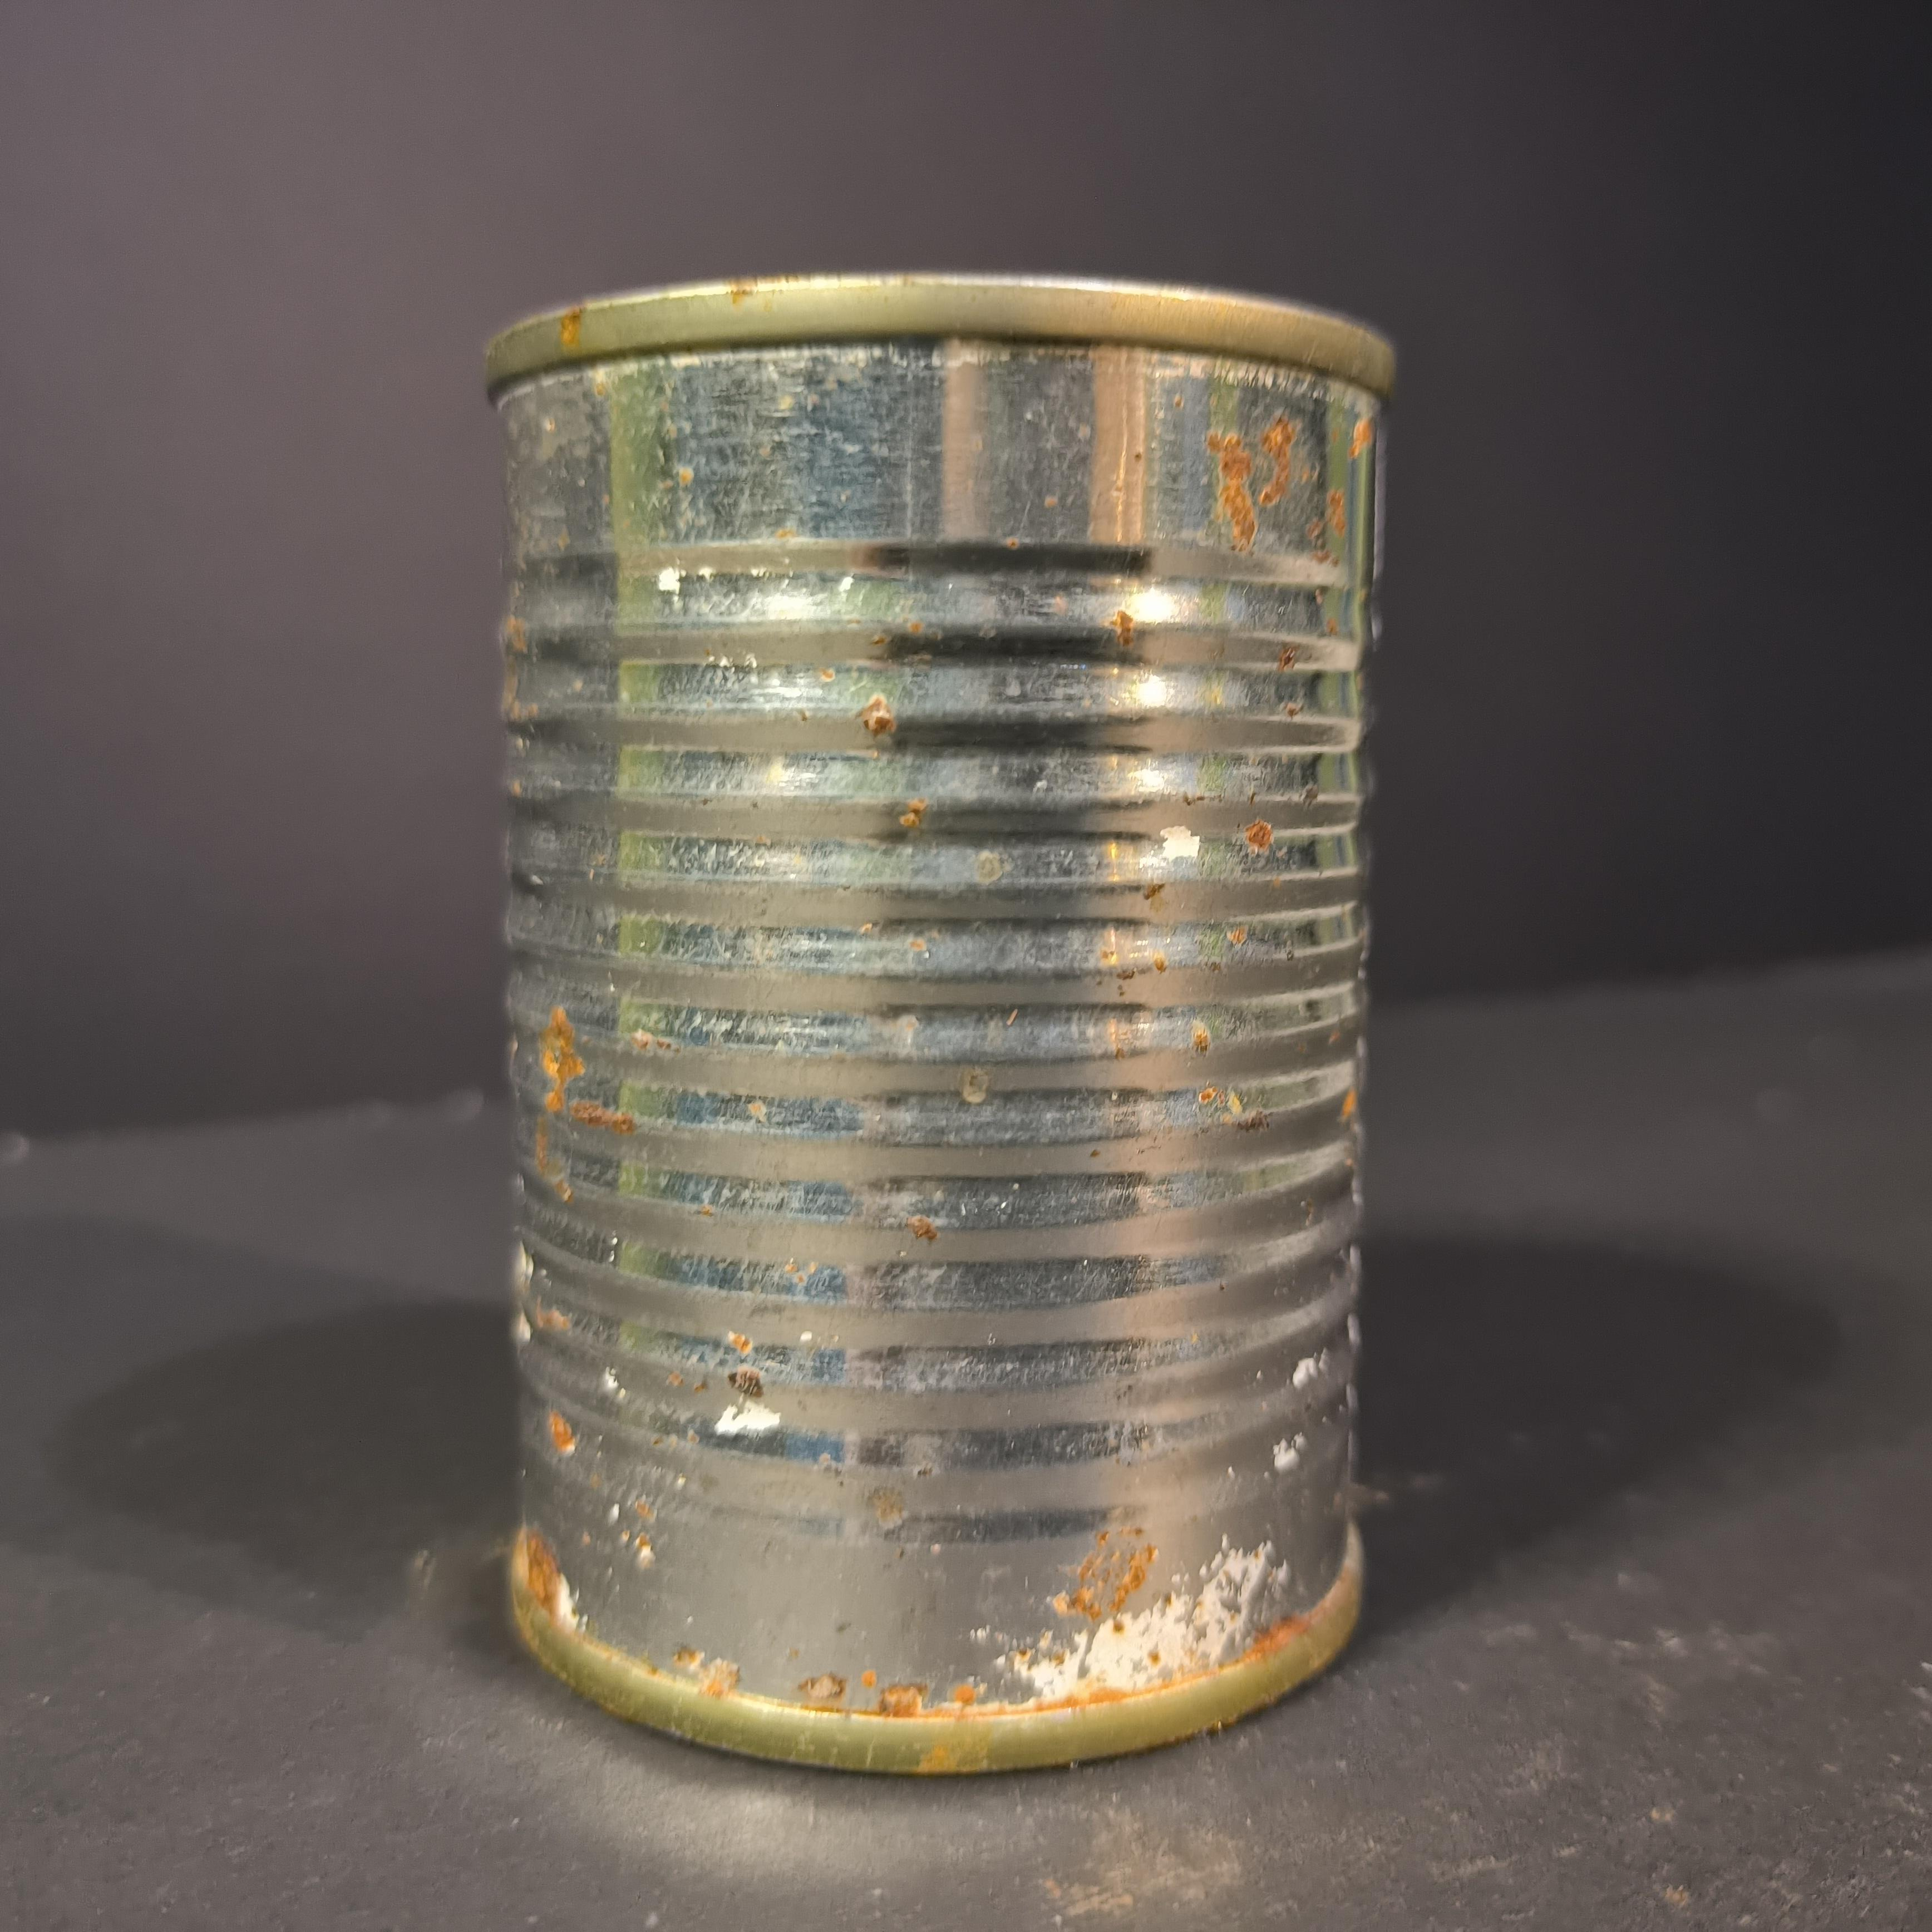Rusted: (451, 248, 1403, 1787)
